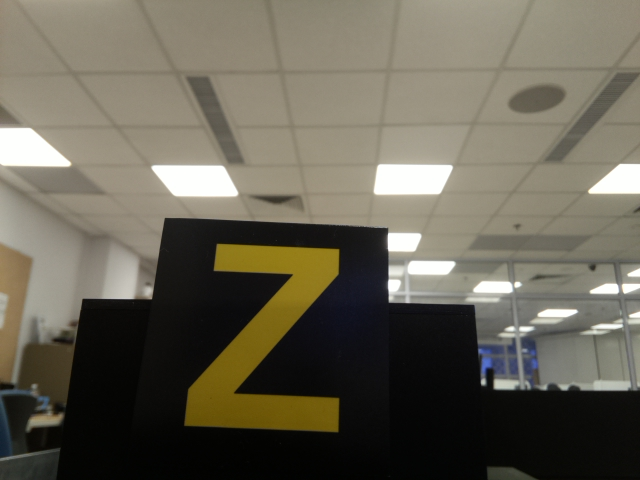z: (181, 231, 354, 447)
